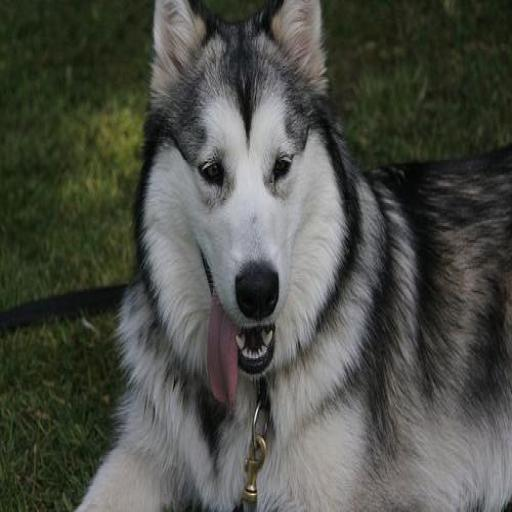dog_face: (148, 1, 331, 370)
